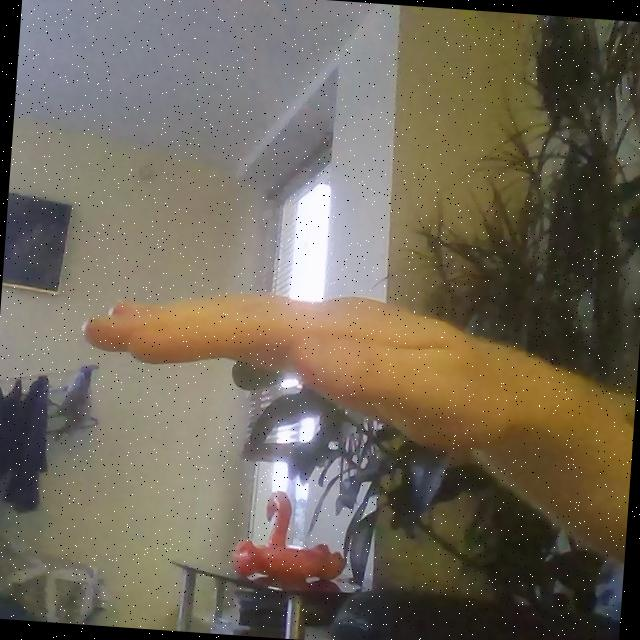papper: (72, 274, 545, 466)
